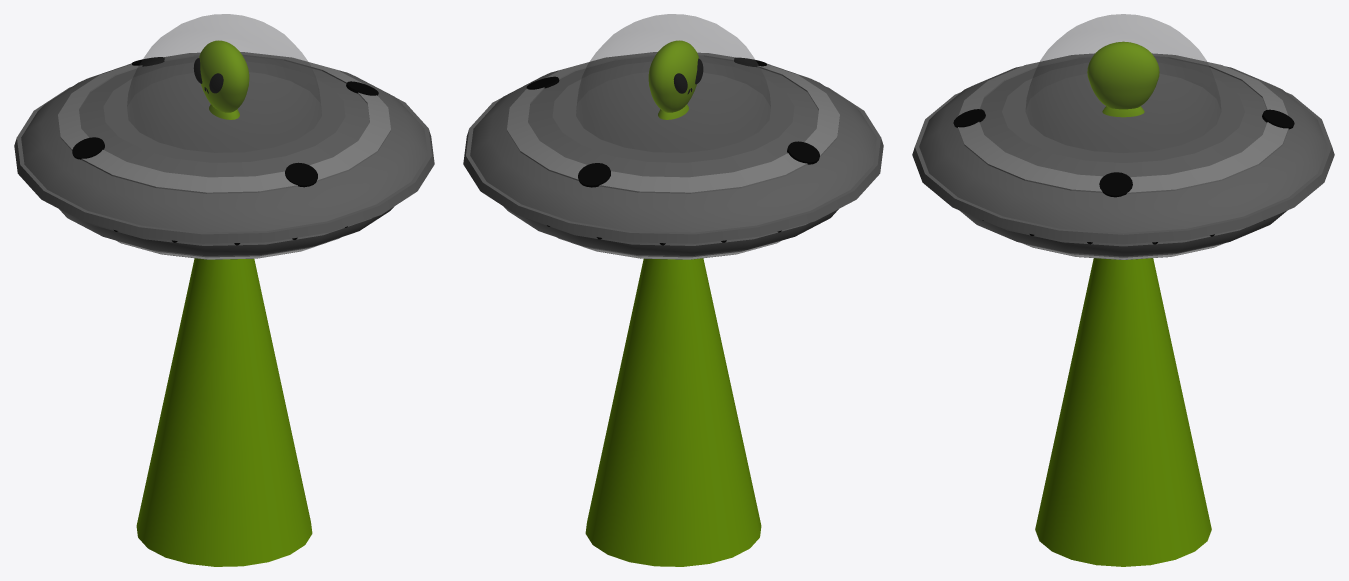
Rendered from UFO.fbx.
3 views of the same model, side by side, from view 1: azimuth 30°, elevation 25°; view 2: azimuth 150°, elevation 25°; view 3: azimuth 270°, elevation 25° (orthographic).
Parts seen in each view (by area): view 1: pSphere13; view 2: pSphere13; view 3: pSphere13.
Part boxes in pixels (<box>): pSphere13: <box>14,14,434,566</box>; pSphere13: <box>463,14,883,566</box>; pSphere13: <box>912,14,1334,566</box>.
Size of the model in its own units: 6.04 by 7.99 by 6.04.
